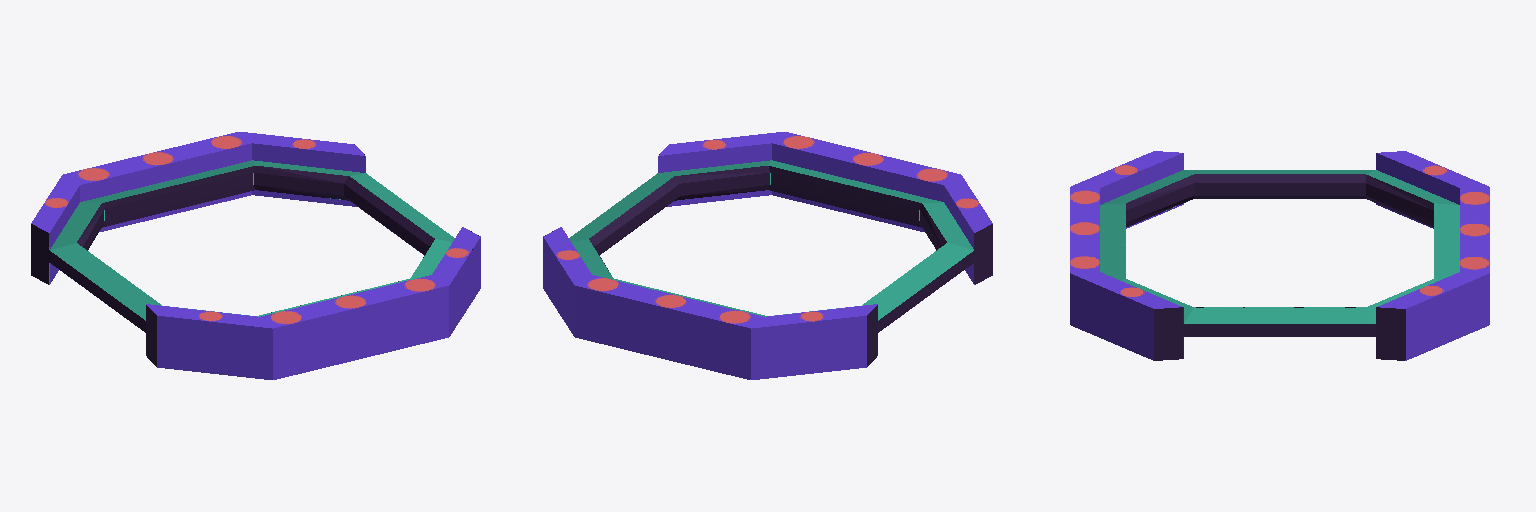
The picture shows the model from 3 angles: view 1: azimuth 30°, elevation 25°; view 2: azimuth 150°, elevation 25°; view 3: azimuth 270°, elevation 25°; orthographic projection.
Parts seen in each view (by area): view 1: torus; view 2: torus; view 3: torus.
Part boxes in pixels (bbox=[...]): torus: bbox=[31, 132, 480, 379]; torus: bbox=[543, 132, 992, 379]; torus: bbox=[1070, 151, 1489, 360].
Bounding box in the file's own units: 3.74 × 0.5728 × 4.21.
1 materials, 1 textured.